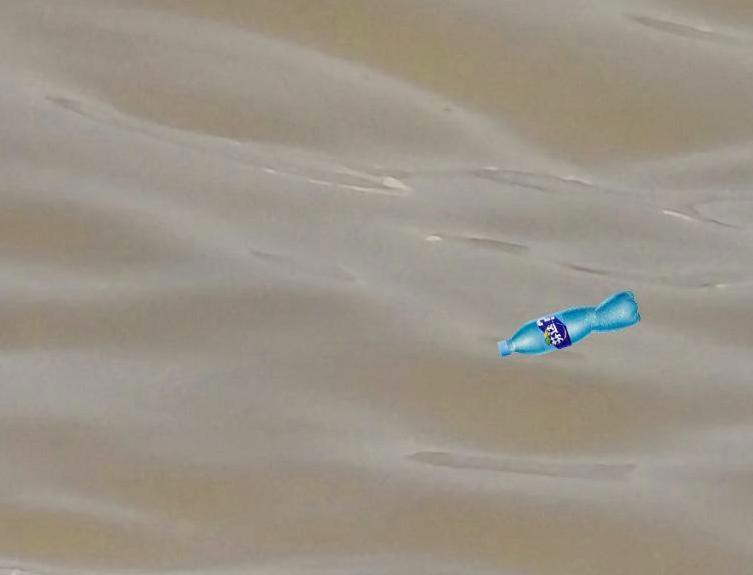Plastic: (491, 293, 644, 363)
